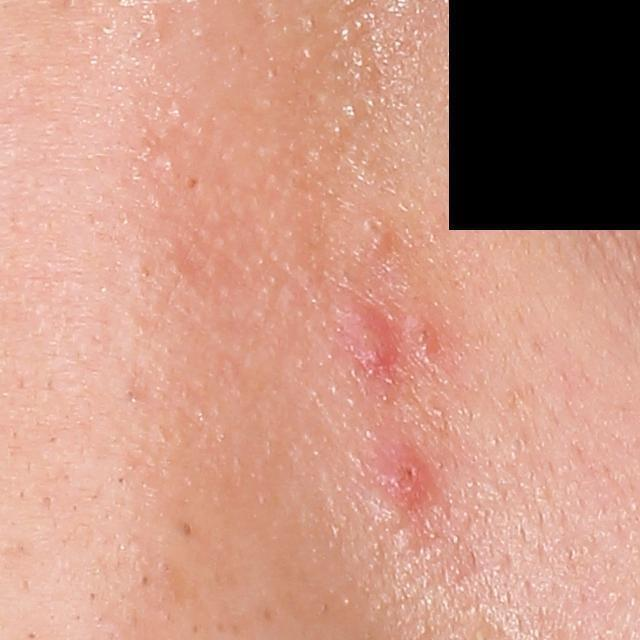papule: (340, 302, 388, 377)
